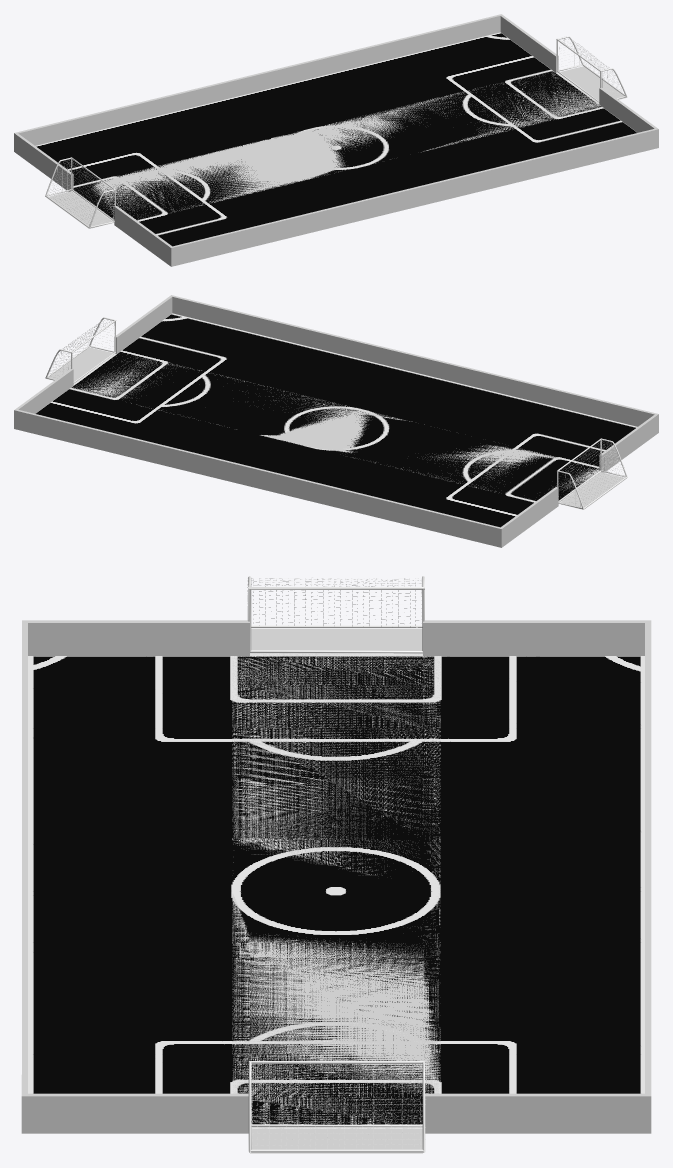
Rendered from FootballBorder2.fbx.
3 views of the same model, one above another, from view 1: azimuth 30°, elevation 25°; view 2: azimuth 150°, elevation 25°; view 3: azimuth 270°, elevation 25° (orthographic). The views are drawn at different scales.
Visible parts, largest first — view 1: Plane, Cube.005, Plane.001, Frame.001, Frame, Net.001, Net; view 2: Plane, Cube.005, Plane.001, Frame.001, Frame, Net.001, Net; view 3: Plane, Plane.001, Cube.005, Frame, Net, Frame.001, Net.001.
Boxes of the visible parts, <box> form: Plane: <box>35,32,637,246</box>; Cube.005: <box>14,14,658,266</box>; Plane.001: <box>46,66,626,228</box>; Frame.001: <box>45,157,115,228</box>; Frame: <box>556,36,627,102</box>; Net.001: <box>47,159,115,226</box>; Net: <box>558,38,623,94</box>; Plane: <box>35,313,637,527</box>; Cube.005: <box>14,295,658,547</box>; Plane.001: <box>46,347,626,509</box>; Frame.001: <box>557,438,627,509</box>; Frame: <box>45,317,116,383</box>; Net.001: <box>561,441,624,507</box>; Net: <box>46,319,114,376</box>; Plane: <box>28,653,644,1128</box>; Plane.001: <box>232,628,440,1153</box>; Cube.005: <box>21,620,651,1133</box>; Frame: <box>248,1061,425,1152</box>; Net: <box>252,1062,426,1149</box>; Frame.001: <box>248,576,424,653</box>; Net.001: <box>247,577,421,627</box>.
Bounding box in the file's own units: 6013 × 382 × 3040.
